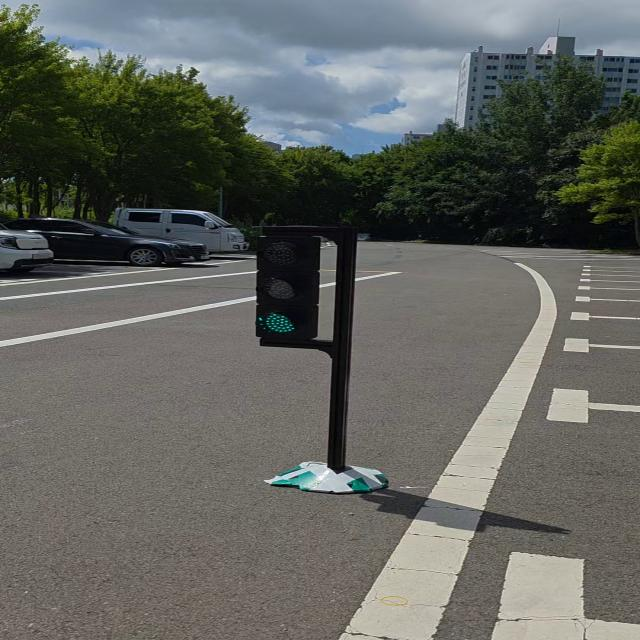green: (250, 226, 320, 346)
